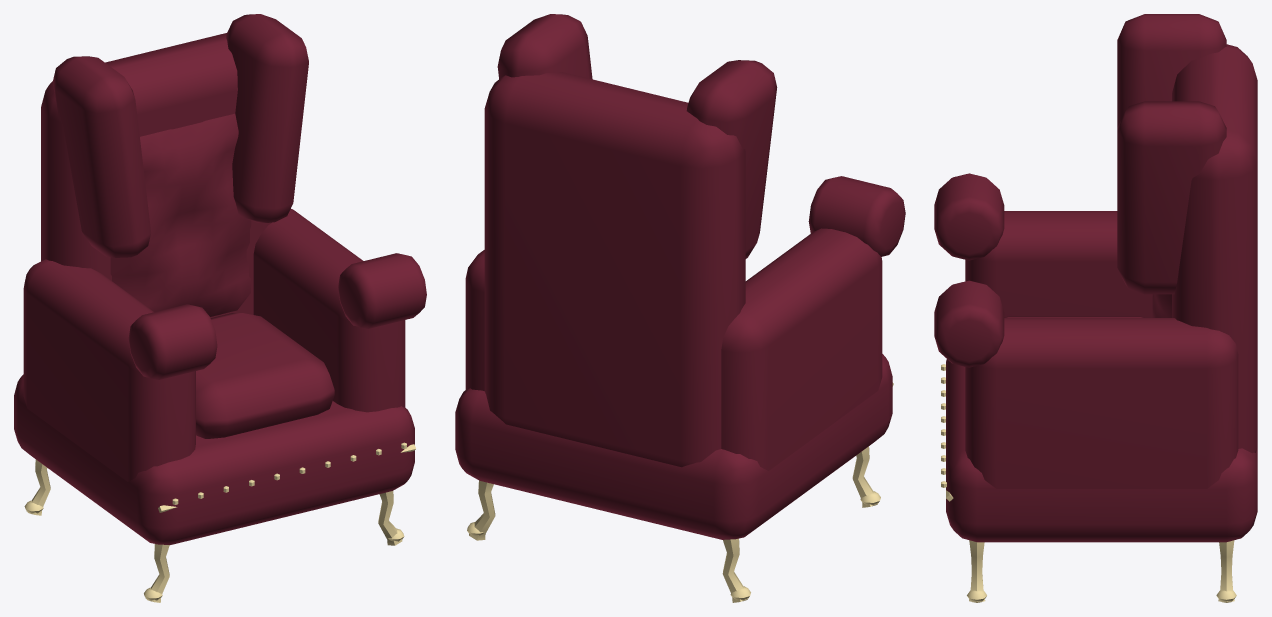
Rendered from armchair_velvet_wing.glb.
3 renders of one model, left to right at view 1: azimuth 30°, elevation 25°; view 2: azimuth 150°, elevation 25°; view 3: azimuth 270°, elevation 25°, orthographic. The views are drawn at different scales.
Parts seen in each view (by area): view 1: armchair_velvet_wing; view 2: armchair_velvet_wing; view 3: armchair_velvet_wing.
Boxes of the visible parts, <box> form: armchair_velvet_wing: <box>14,14,426,602</box>; armchair_velvet_wing: <box>455,14,905,602</box>; armchair_velvet_wing: <box>934,14,1257,602</box>.
Size of the model in its own units: 0.85 by 1.36 by 0.83.
